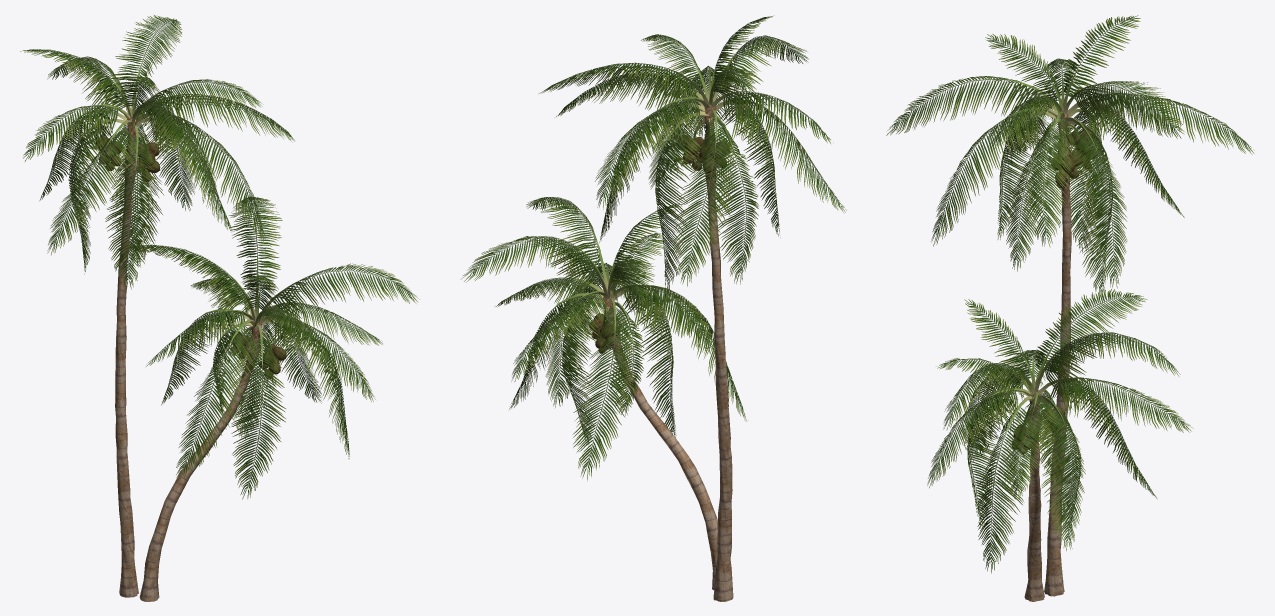
The picture shows the model from 3 angles, left to right: view 1: azimuth 30°, elevation 25°; view 2: azimuth 150°, elevation 25°; view 3: azimuth 270°, elevation 25°; orthographic projection. The views are drawn at different scales.
Parts seen in each view (by area): view 1: Tree_2, Tree_0, Tree_3, Tree_5, Tree_1; view 2: Tree_2, Tree_0, Tree_3, Tree_5, Tree_1; view 3: Tree_2, Tree_0, Tree_3, Tree_5, Tree_1.
Boxes of the visible parts, x1=… form: Tree_2: x1=20, y1=15, x2=419, y2=499; Tree_0: x1=115, y1=203, x2=249, y2=601; Tree_3: x1=75, y1=59, x2=319, y2=373; Tree_5: x1=95, y1=137, x2=286, y2=379; Tree_1: x1=124, y1=116, x2=261, y2=375; Tree_2: x1=460, y1=15, x2=846, y2=481; Tree_0: x1=614, y1=198, x2=733, y2=601; Tree_3: x1=550, y1=48, x2=768, y2=337; Tree_5: x1=589, y1=135, x2=730, y2=353; Tree_1: x1=603, y1=105, x2=716, y2=353; Tree_2: x1=886, y1=15, x2=1254, y2=573; Tree_0: x1=1024, y1=200, x2=1071, y2=601; Tree_3: x1=976, y1=68, x2=1127, y2=438; Tree_5: x1=1012, y1=129, x2=1097, y2=453; Tree_1: x1=1027, y1=113, x2=1070, y2=443.
Bounding box in the file's own units: 0.9826 × 1.43 × 0.8938.
6 materials, 6 textured.
